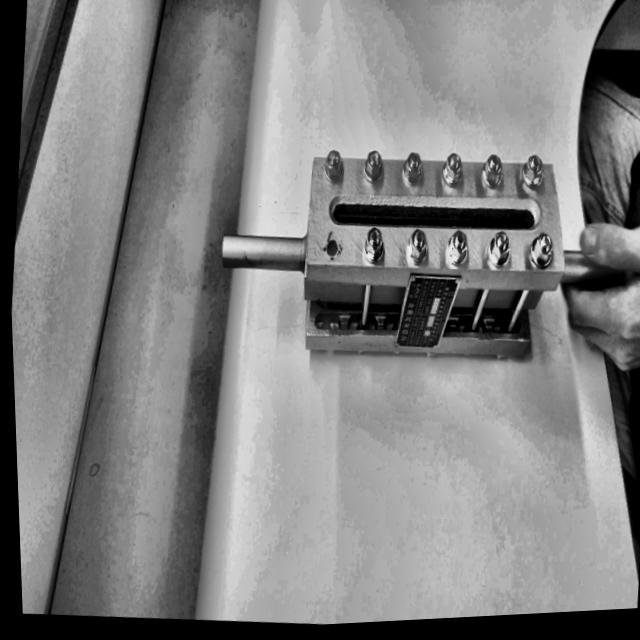ShuiWeiQi_11: (191, 81, 573, 399)
